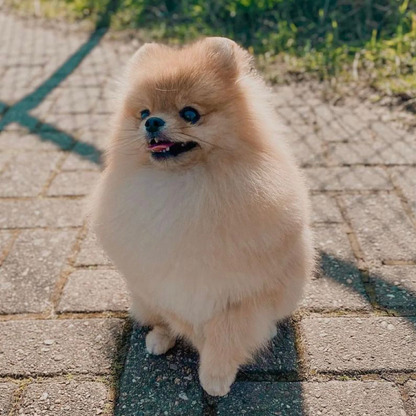Pomeranian: (85, 38, 332, 387)
